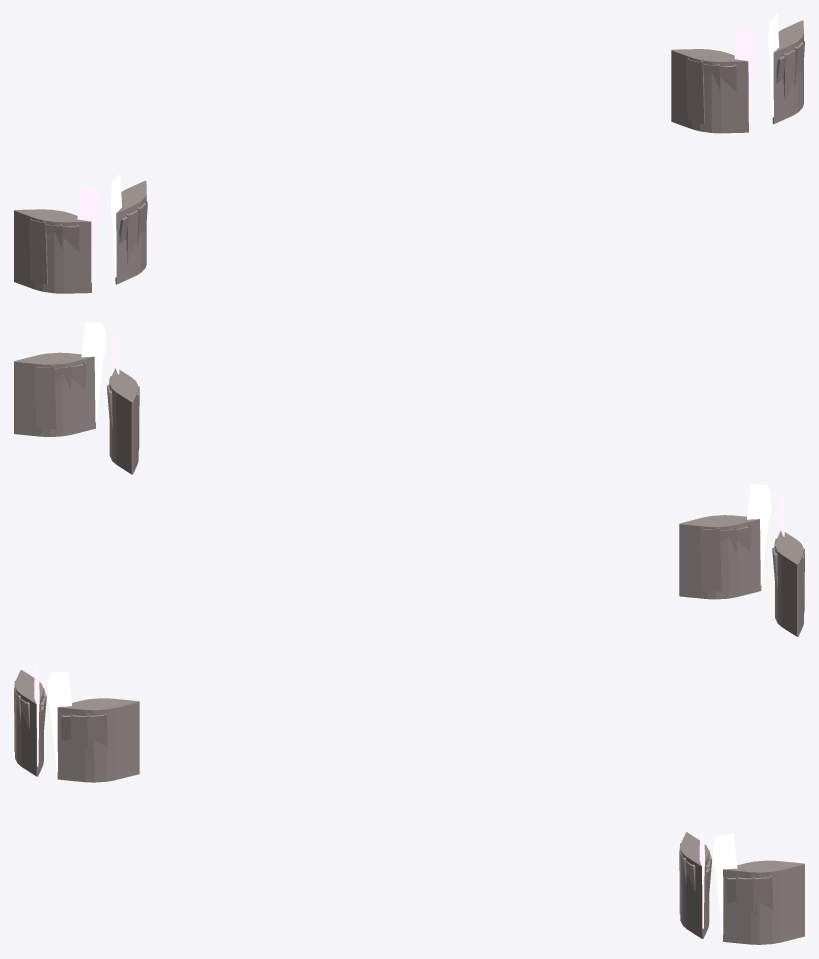
File: DividerGATE 1.fbx
The picture shows the model from 3 angles, top to bottom: view 1: azimuth 30°, elevation 25°; view 2: azimuth 150°, elevation 25°; view 3: azimuth 330°, elevation 25°; orthographic projection.
Visible parts, largest first — view 1: V3_Divider.004, V3_Divider.002, V3_Divider.005, V3_Divider.003, Cube.656, Cube.341, Cube.659, Cube.344, Cube.351, Cube.666; view 2: V3_Divider.005, V3_Divider.003, V3_Divider.002, V3_Divider.004, Cube.348, Cube.663, Cube.351, Cube.666; view 3: V3_Divider.005, V3_Divider.003, V3_Divider.002, V3_Divider.004, Cube.666, Cube.351, Cube.346, Cube.661, Cube.347, Cube.662.
Boxes of the visible parts, box(x1,y1,x2,y2) form: V3_Divider.004: box(14, 209, 91, 293); V3_Divider.002: box(671, 49, 748, 133); V3_Divider.005: box(115, 180, 146, 284); V3_Divider.003: box(772, 20, 803, 123); Cube.656: box(686, 57, 704, 124); Cube.341: box(29, 218, 47, 284); Cube.659: box(734, 25, 757, 121); Cube.344: box(77, 185, 100, 282); Cube.351: box(111, 174, 121, 277); Cube.666: box(768, 14, 779, 117); V3_Divider.005: box(679, 515, 761, 599); V3_Divider.003: box(14, 352, 95, 436); V3_Divider.002: box(109, 368, 138, 474); V3_Divider.004: box(775, 530, 803, 636); Cube.348: box(700, 527, 721, 591); Cube.663: box(34, 365, 56, 428); Cube.351: box(747, 484, 771, 585); Cube.666: box(81, 322, 105, 422); V3_Divider.005: box(57, 698, 139, 782); V3_Divider.003: box(723, 860, 804, 944); V3_Divider.002: box(680, 832, 709, 938); V3_Divider.004: box(15, 670, 43, 776); Cube.666: box(713, 833, 737, 934); Cube.351: box(47, 671, 71, 771); Cube.346: box(70, 714, 91, 763); Cube.661: box(736, 876, 756, 926); Cube.347: box(87, 713, 107, 754); Cube.662: box(752, 875, 773, 916).
Bounding box in the file's own units: 69738 × 9383 × 5596.
